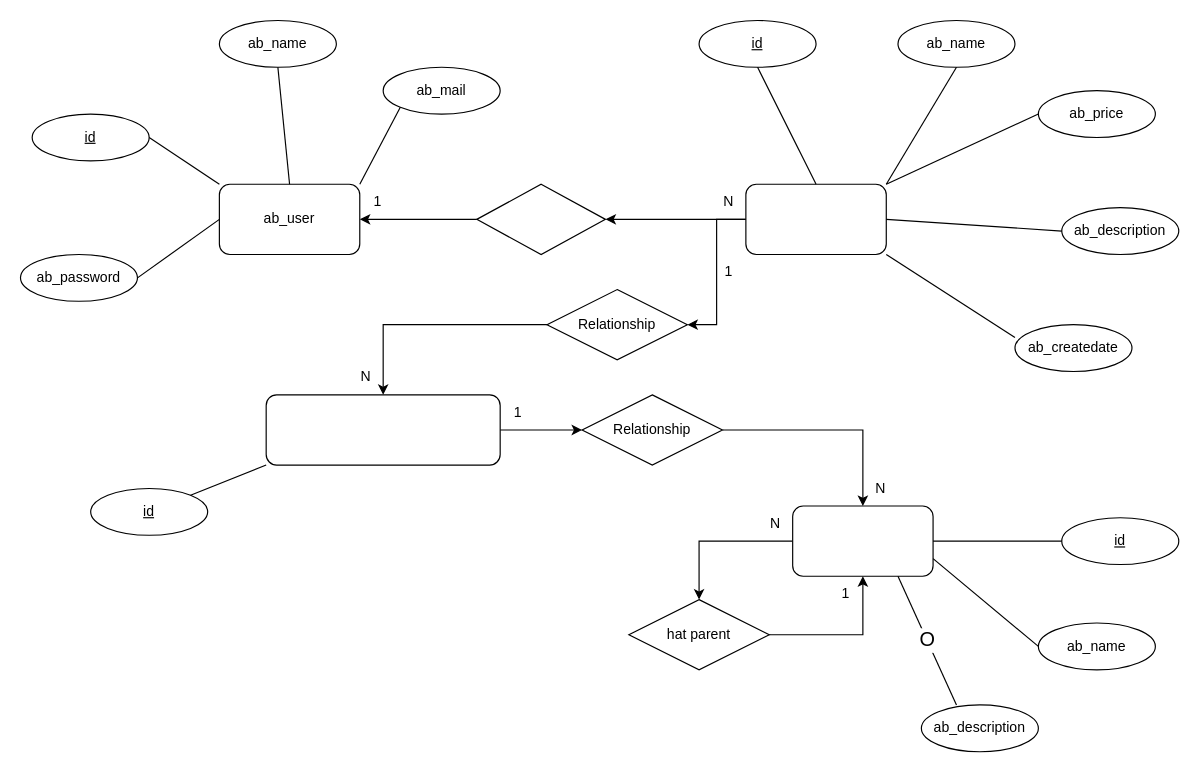
The diagram is 1199 pixels wide and 772 high, and some of its shapes have lost their labels. Each missing label, with the centre of its shape:
ab_article: the point at 815,218
ab_article_has_articlecategory: the point at 382,429
ab_articlecatagory: the point at 862,540
hat: the point at 540,218
